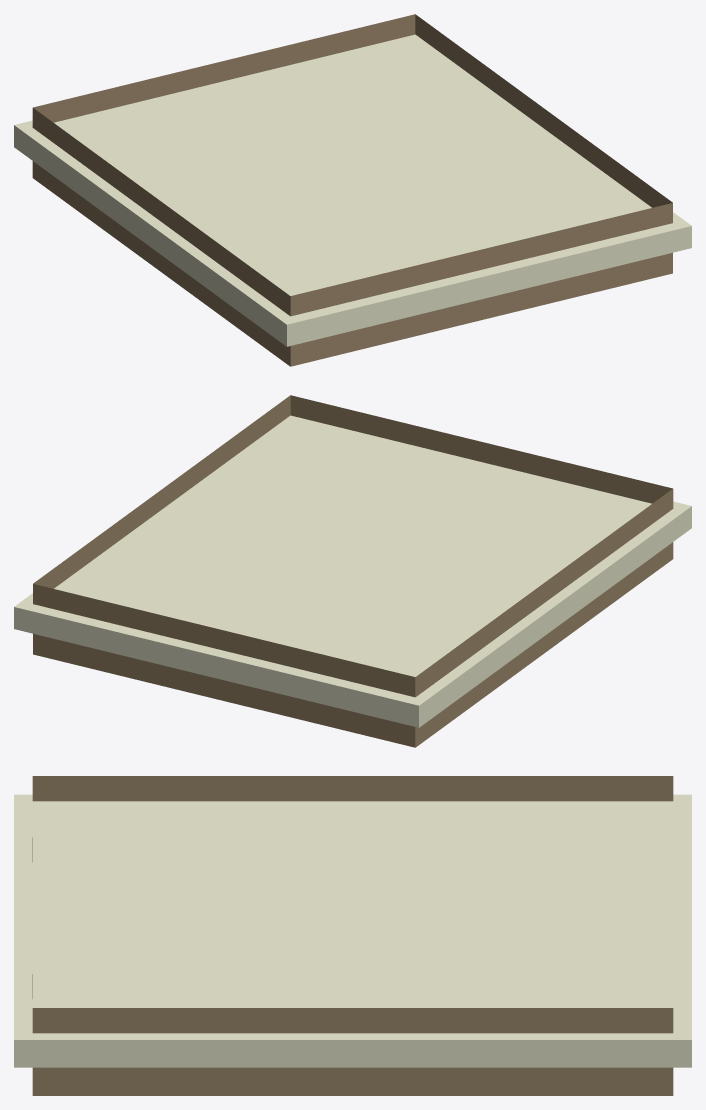
The model's file is building2_separator.fbx.
3 views of the same model, one above another, from view 1: azimuth 30°, elevation 25°; view 2: azimuth 150°, elevation 25°; view 3: azimuth 270°, elevation 25° (orthographic). The views are drawn at different scales.
Visible parts, largest first — view 1: building2_separator; view 2: building2_separator; view 3: building2_separator.
Part boxes in pixels (x1,y1,x2,y2): building2_separator: [14, 14, 691, 366]; building2_separator: [14, 395, 691, 747]; building2_separator: [14, 776, 691, 1095].
Size of the model in its own units: 600 by 100 by 700.
